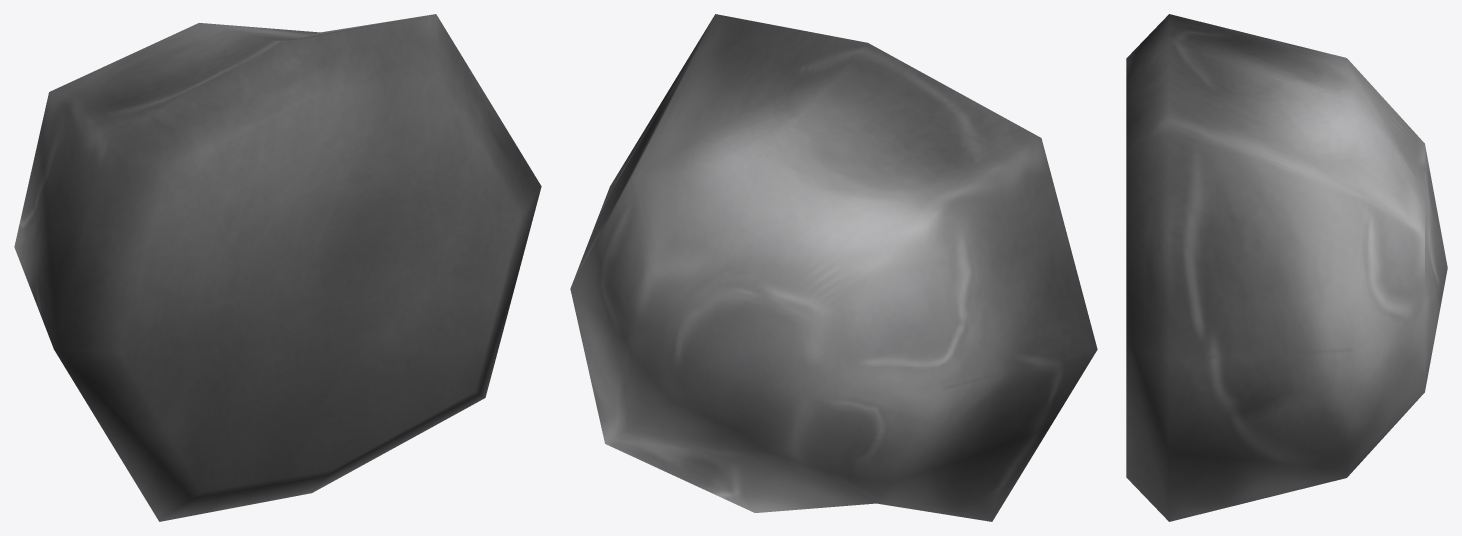
File: Rock_a.fbx
3 renders of one model, left to right at view 1: azimuth 30°, elevation 25°; view 2: azimuth 150°, elevation 25°; view 3: azimuth 270°, elevation 25°, orthographic. The views are drawn at different scales.
Visible parts, largest first — view 1: Rock_a; view 2: Rock_a; view 3: Rock_a.
Boxes of the visible parts, bbox=[...] form: Rock_a: bbox=[14, 14, 541, 521]; Rock_a: bbox=[570, 14, 1097, 521]; Rock_a: bbox=[1126, 14, 1447, 521].
Bounding box in the file's own units: 96.07 × 86.08 × 57.75.
